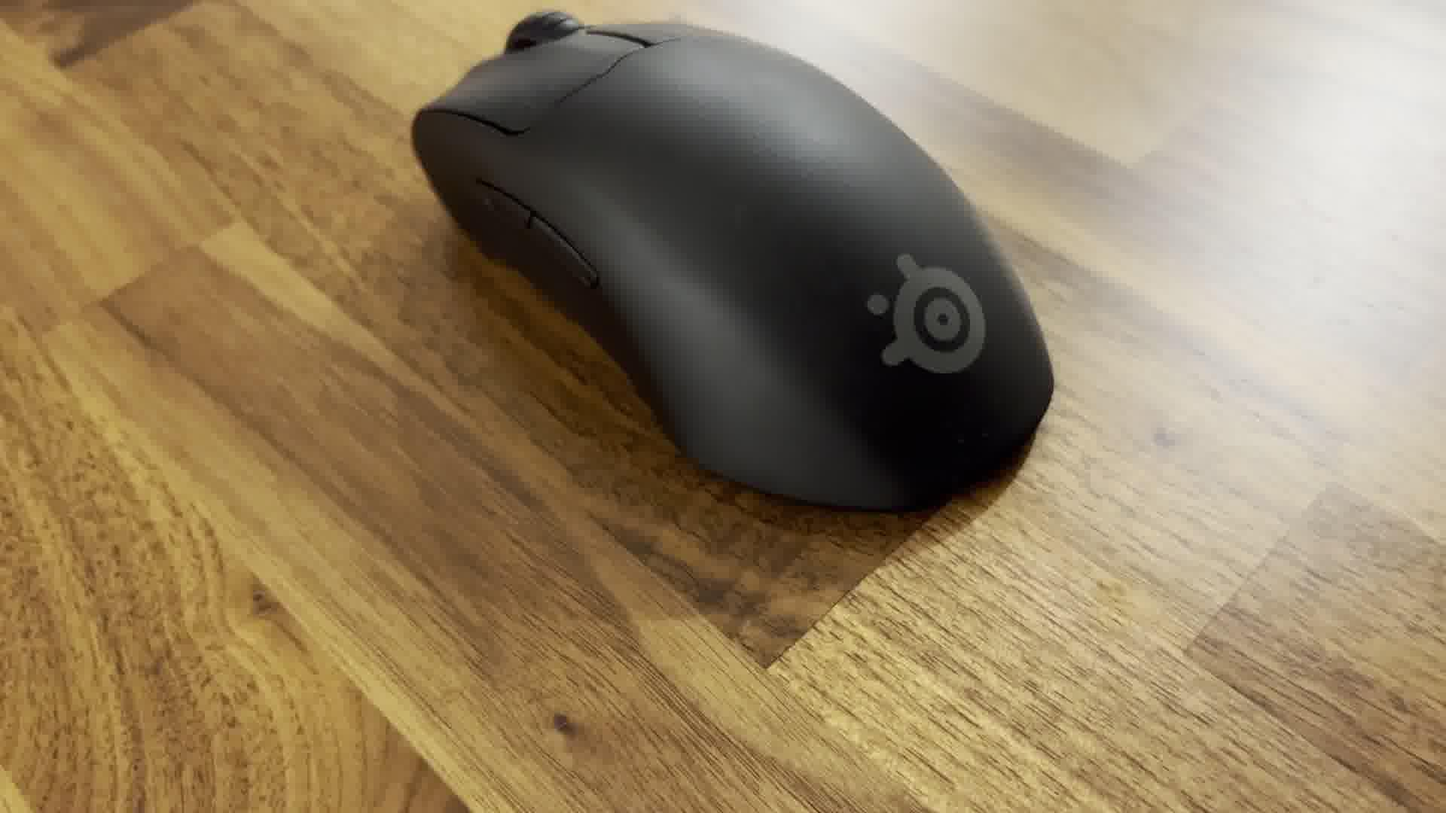steel-series: (412, 4, 1059, 524)
